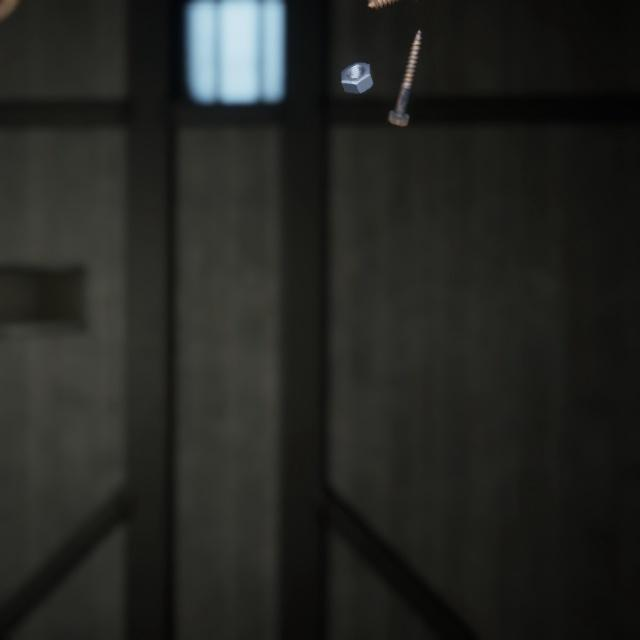bolt: (382, 15, 425, 120)
nut: (338, 48, 379, 87)
